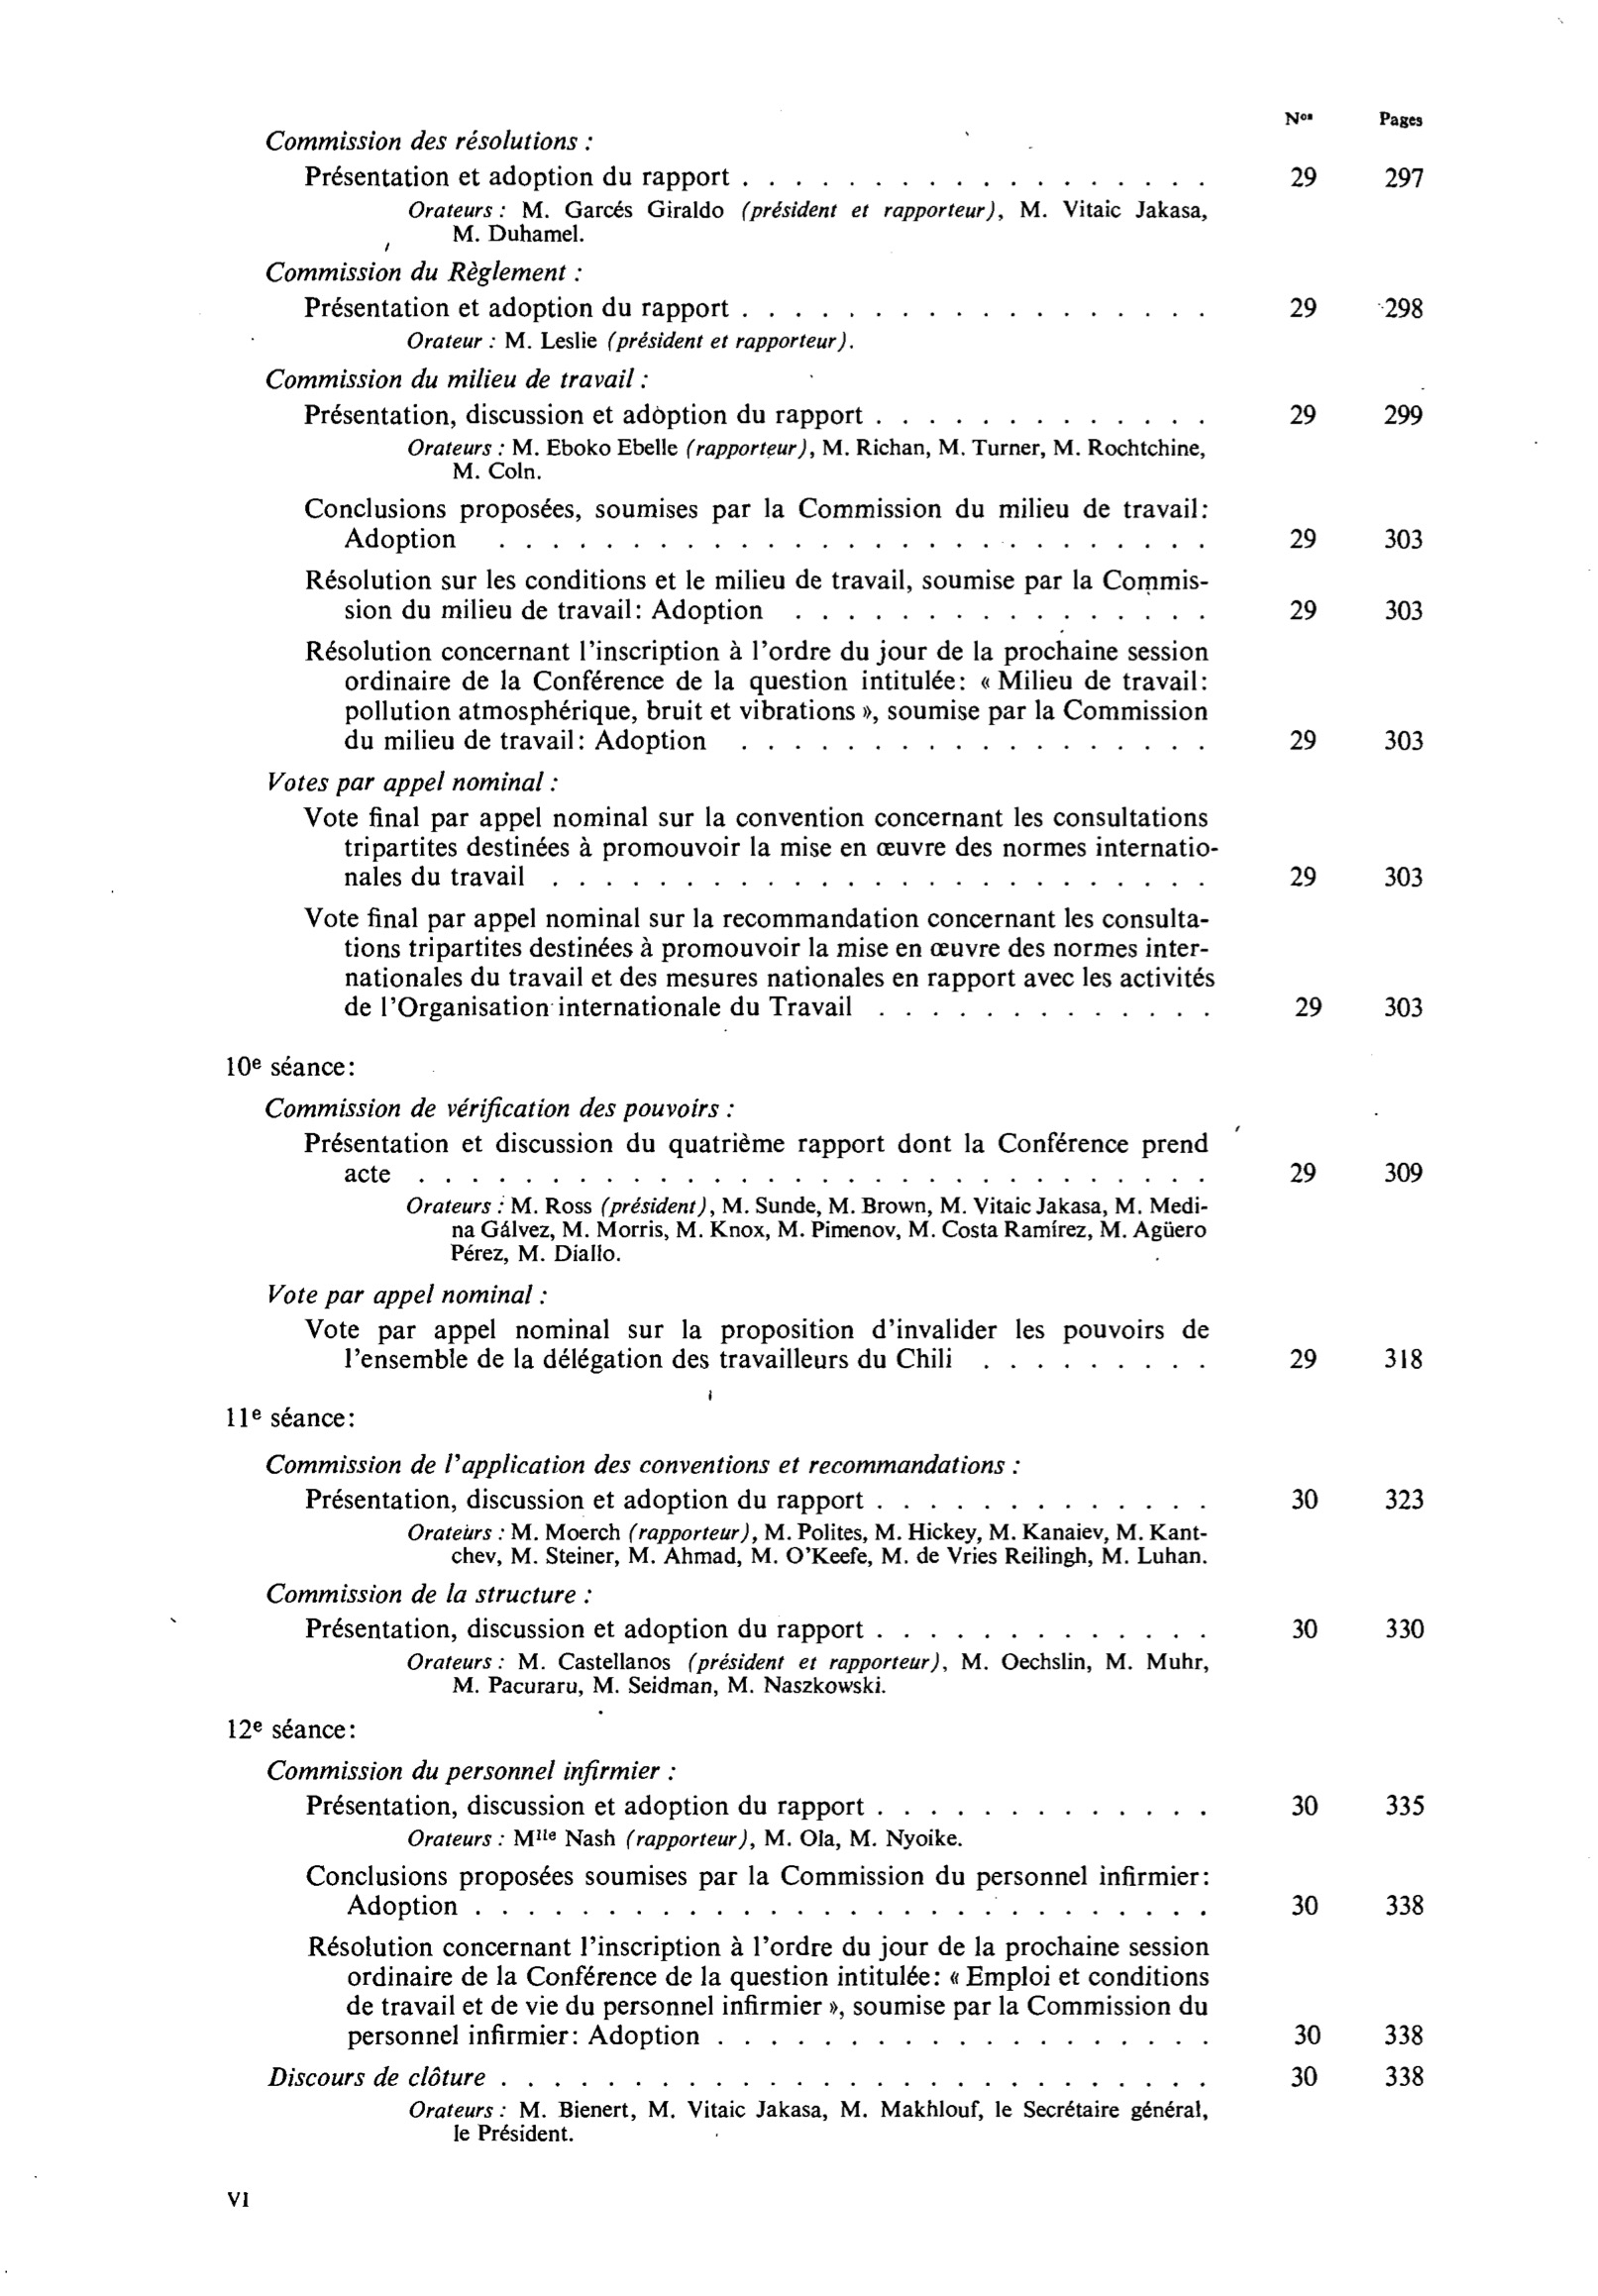QuireMarksZone: (195, 119, 1476, 2148)
TitlePageZone: (216, 2181, 262, 2219)
